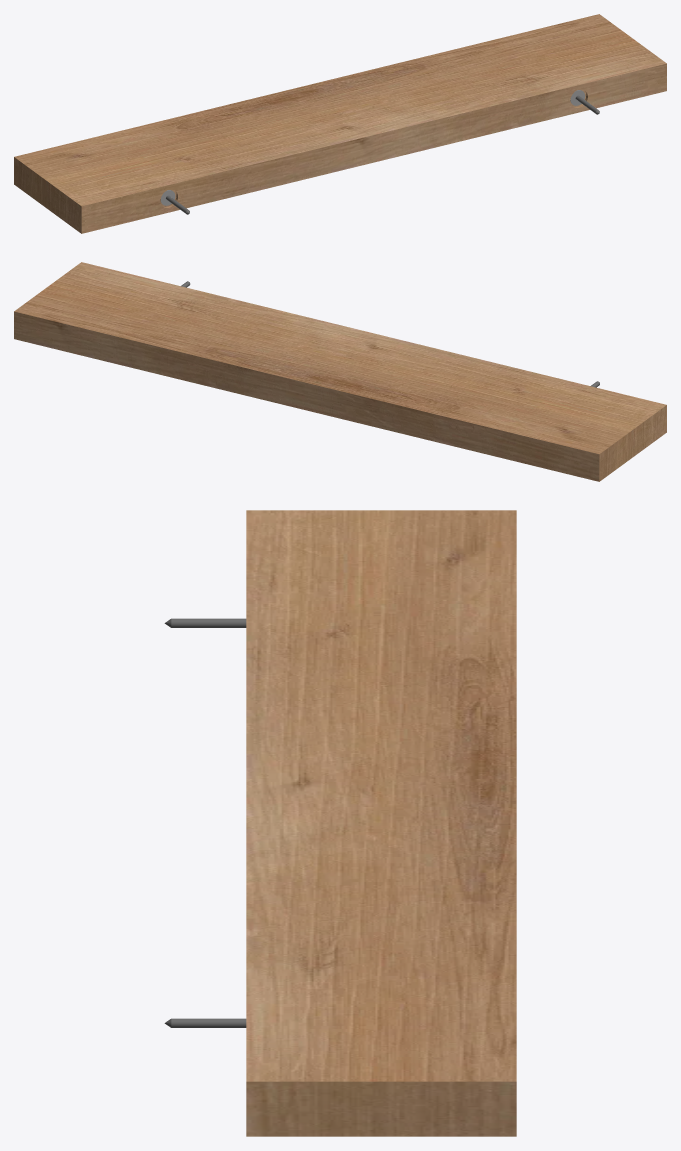
The model's file is wall_shelf_solid_oak_floating_bespoak_interiors.glb.
3 renders of one model, top to bottom at view 1: azimuth 30°, elevation 25°; view 2: azimuth 150°, elevation 25°; view 3: azimuth 270°, elevation 25°, orthographic. The views are drawn at different scales.
Parts seen in each view (by area): view 1: Material2, Material3; view 2: Material2, Material3; view 3: Material2, Material3 (×2).
Part boxes in pixels (x1=…): Material2: x1=14, y1=14, x2=666, y2=233; Material3: x1=14, y1=157, x2=81, y2=233; Material2: x1=14, y1=262, x2=666, y2=481; Material3: x1=599, y1=405, x2=666, y2=481; Material2: x1=246, y1=510, x2=516, y2=1081; Material3 (×2): x1=164, y1=618, x2=516, y2=1136.
Size of the model in its own units: 39.37 by 1.77 by 10.25.
7 materials, 7 textured.
